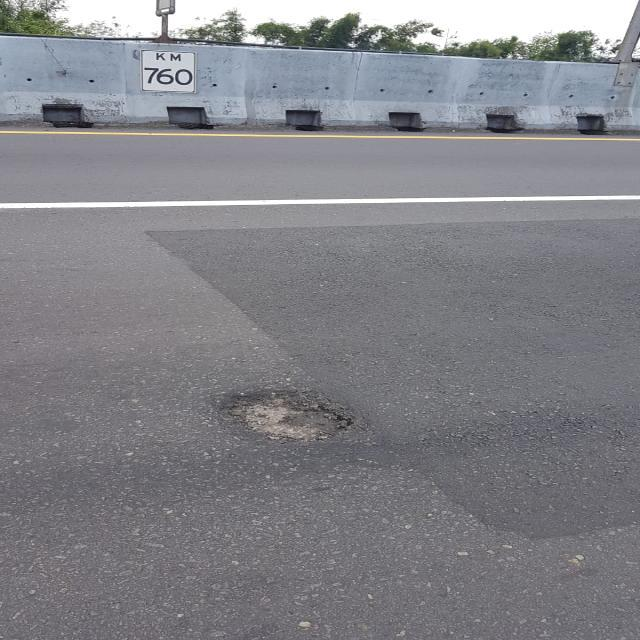Buraco: (216, 387, 360, 446)
